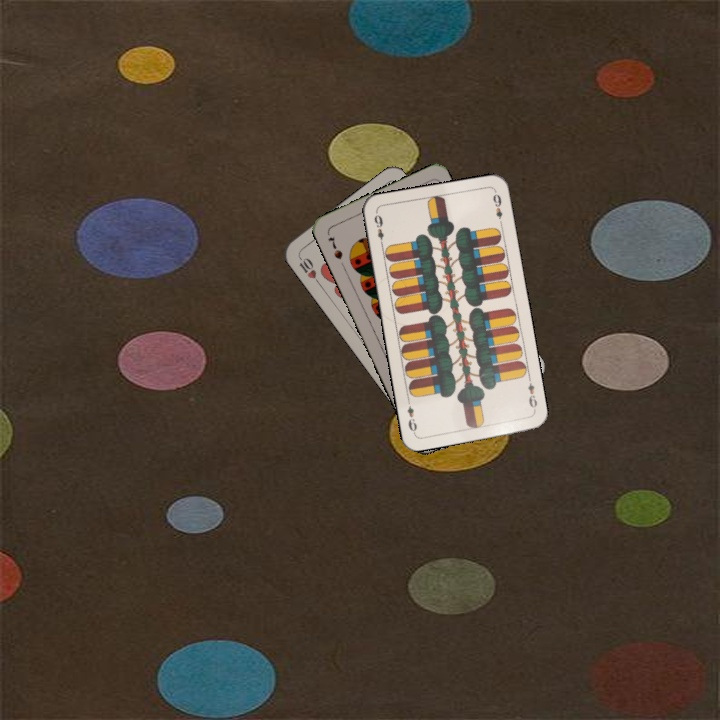E9: (370, 211, 387, 249), (524, 374, 540, 414)
H10: (294, 251, 322, 287)
S7: (324, 232, 345, 262)
